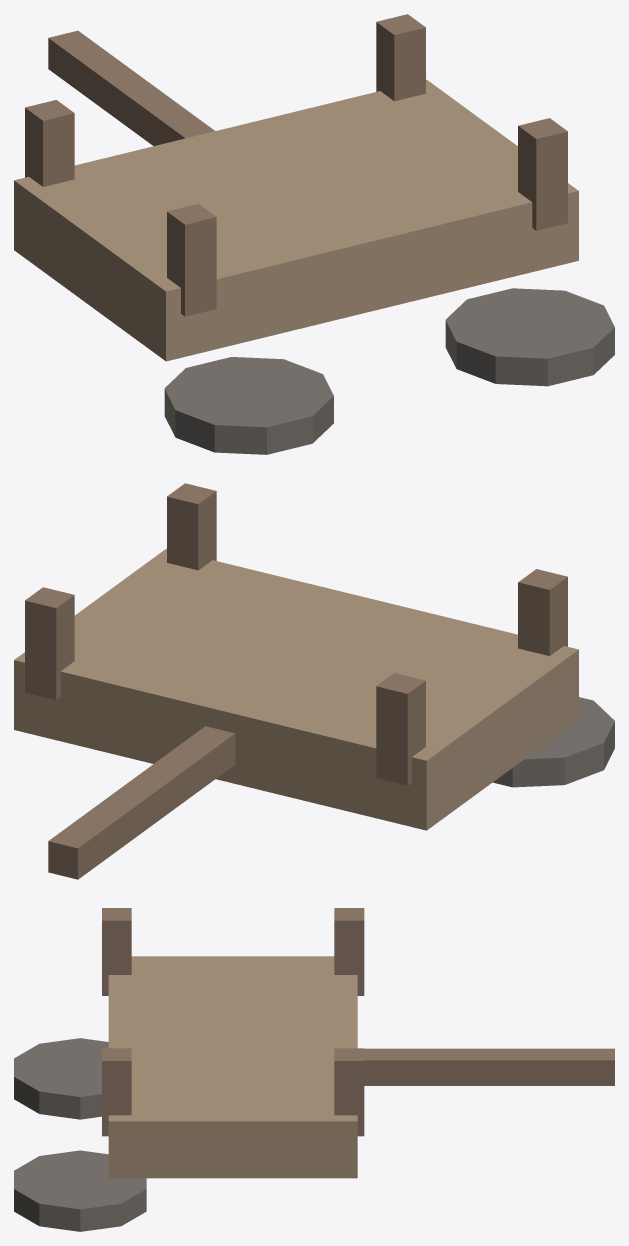
File: carroca.glb
The picture shows the model from 3 angles, top to bottom: view 1: azimuth 30°, elevation 25°; view 2: azimuth 150°, elevation 25°; view 3: azimuth 270°, elevation 25°; orthographic projection. The views are drawn at different scales.
Visible parts, largest first — view 1: part_000, part_006, part_005, part_007, part_004, part_002, part_003, part_001; view 2: part_000, part_007, part_005, part_001, part_003, part_004, part_002; view 3: part_000, part_007, part_006, part_005, part_003, part_001, part_004, part_002.
Boxes of the visible parts, x1,y1,x2,y2 form: part_000: (14,79,578,361); part_006: (445,288,614,386); part_005: (164,357,333,454); part_007: (48,30,215,145); part_004: (518,118,567,230); part_002: (167,204,216,316); part_003: (376,14,425,101); part_001: (25,100,74,186); part_000: (14,549,578,830); part_007: (48,726,235,879); part_005: (493,697,614,787); part_001: (376,673,425,785); part_003: (25,587,74,699); part_004: (167,483,216,570); part_002: (518,569,567,656); part_000: (108,956,357,1178); part_007: (364,1048,614,1085); part_006: (14,1150,146,1231); part_005: (14,1038,108,1119); part_003: (334,1048,364,1136); part_001: (334,908,364,995); part_004: (102,1048,131,1136); part_002: (102,908,131,995).
Size of the model in its own units: 2.44 by 1.07 by 3.62.
